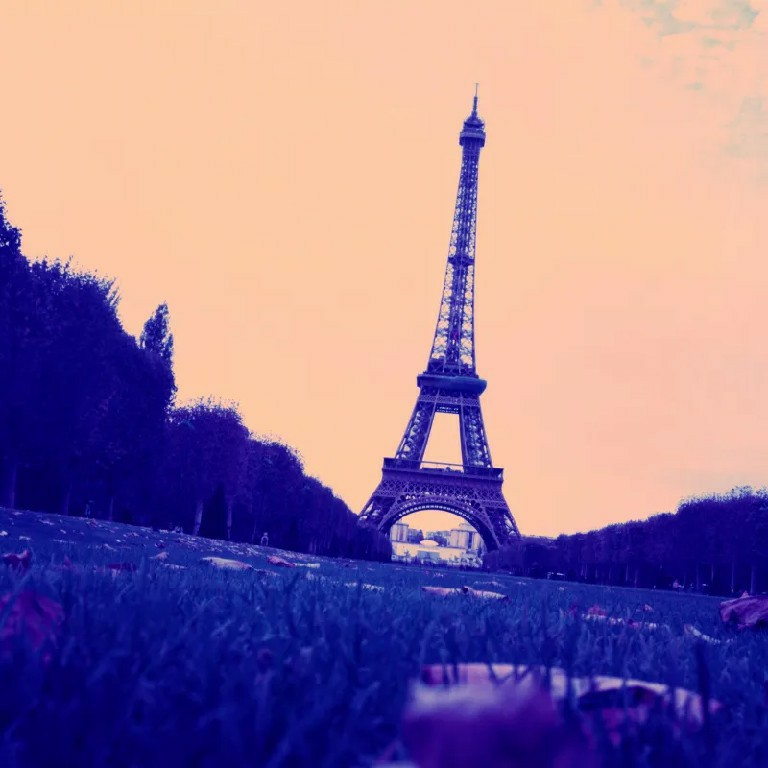Eiffel: (357, 85, 522, 553)
